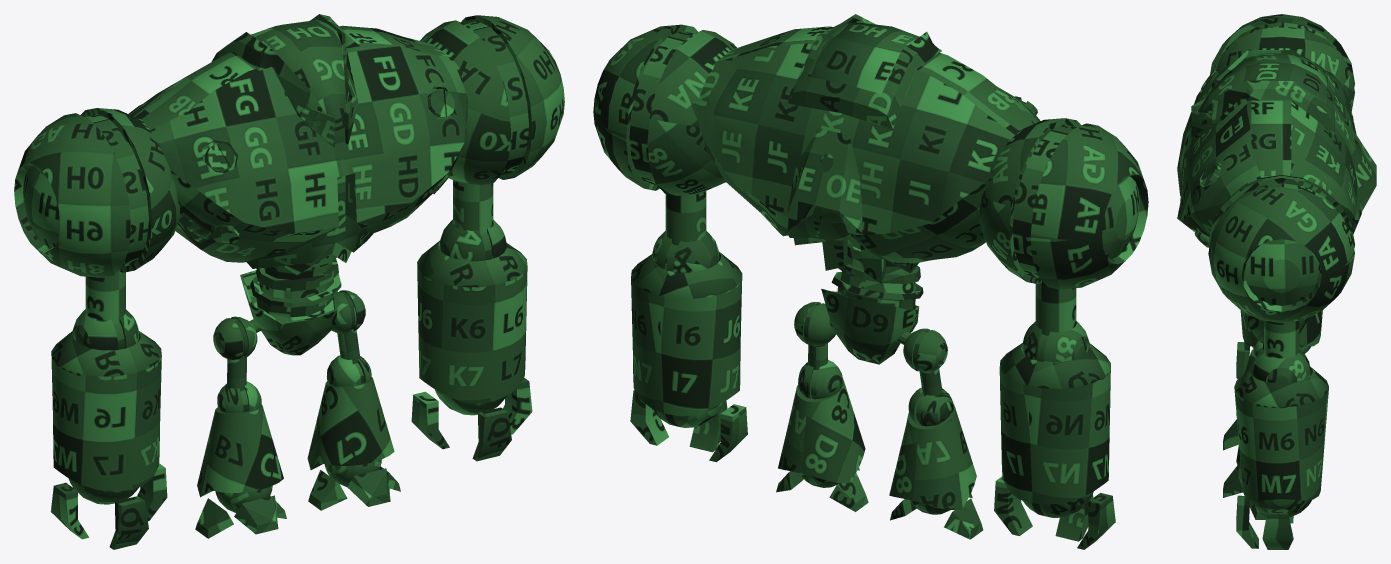
Rendered from UVRobotTry2.fbx.
3 views of the same model, side by side, from view 1: azimuth 30°, elevation 25°; view 2: azimuth 150°, elevation 25°; view 3: azimuth 270°, elevation 25° (orthographic). The views are drawn at different scales.
Visible parts, largest first — view 1: TopTorso, L_Shoulder2, L_Shoulder, L_Forearm, L_Forearm2, L_Shin2, L_Shin, InnerHead, OutSideHead, Stomach, Pelvis, MiddleTorso (+23 smaller); view 2: TopTorso, L_Shoulder2, L_Shoulder, L_Forearm2, L_Forearm, L_Shin2, L_Shin, OutSideHead, InnerHead, OuterJetPack, Pelvis, Stomach (+20 smaller); view 3: L_Shoulder, TopTorso, L_Forearm, L_Shoulder2, OutSideHead, InnerHead, L_Elbow, OuterJetPack, L_Bicep, L_Claw1, L_Forearm2, L_Claw2 (+6 smaller).
Part boxes in pixels (left/top/right/bottom): TopTorso: left=128, top=25, right=467, bottom=262; L_Shoulder2: left=14, top=108, right=180, bottom=277; L_Shoulder: left=420, top=15, right=564, bottom=185; L_Forearm: left=417, top=240, right=527, bottom=403; L_Forearm2: left=51, top=331, right=161, bottom=491; L_Shin2: left=197, top=404, right=283, bottom=497; L_Shin: left=307, top=377, right=394, bottom=469; InnerHead: left=251, top=19, right=347, bottom=143; OutSideHead: left=211, top=14, right=359, bottom=147; Stomach: left=250, top=254, right=341, bottom=317; Pelvis: left=240, top=270, right=337, bottom=355; MiddleTorso: left=246, top=176, right=373, bottom=268; TopTorso: left=691, top=26, right=1040, bottom=263; L_Shoulder2: left=979, top=118, right=1148, bottom=289; L_Shoulder: left=593, top=24, right=736, bottom=195; L_Forearm2: left=999, top=343, right=1110, bottom=504; L_Forearm: left=631, top=252, right=742, bottom=416; L_Shin2: left=889, top=404, right=976, bottom=509; L_Shin: left=778, top=378, right=865, bottom=482; OutSideHead: left=788, top=14, right=941, bottom=128; InnerHead: left=810, top=22, right=919, bottom=93; OuterJetPack: left=787, top=128, right=862, bottom=232; Pelvis: left=821, top=288, right=919, bottom=364; Stomach: left=831, top=234, right=923, bottom=310; L_Shoulder: left=1208, top=175, right=1354, bottom=323; TopTorso: left=1177, top=50, right=1361, bottom=236; L_Forearm: left=1234, top=366, right=1328, bottom=500; L_Shoulder2: left=1210, top=14, right=1354, bottom=110; OutSideHead: left=1191, top=50, right=1334, bottom=138; InnerHead: left=1198, top=53, right=1327, bottom=137; L_Elbow: left=1253, top=349, right=1310, bottom=383; OuterJetPack: left=1345, top=118, right=1376, bottom=212; L_Bicep: left=1264, top=320, right=1299, bottom=358; L_Claw1: left=1262, top=509, right=1293, bottom=549; L_Forearm2: left=1240, top=310, right=1322, bottom=346; L_Claw2: left=1236, top=495, right=1258, bottom=548.
Bounding box in the file's own units: 4.95 × 4.4 × 1.92.
Materials: 1 (1 with a texture image).
